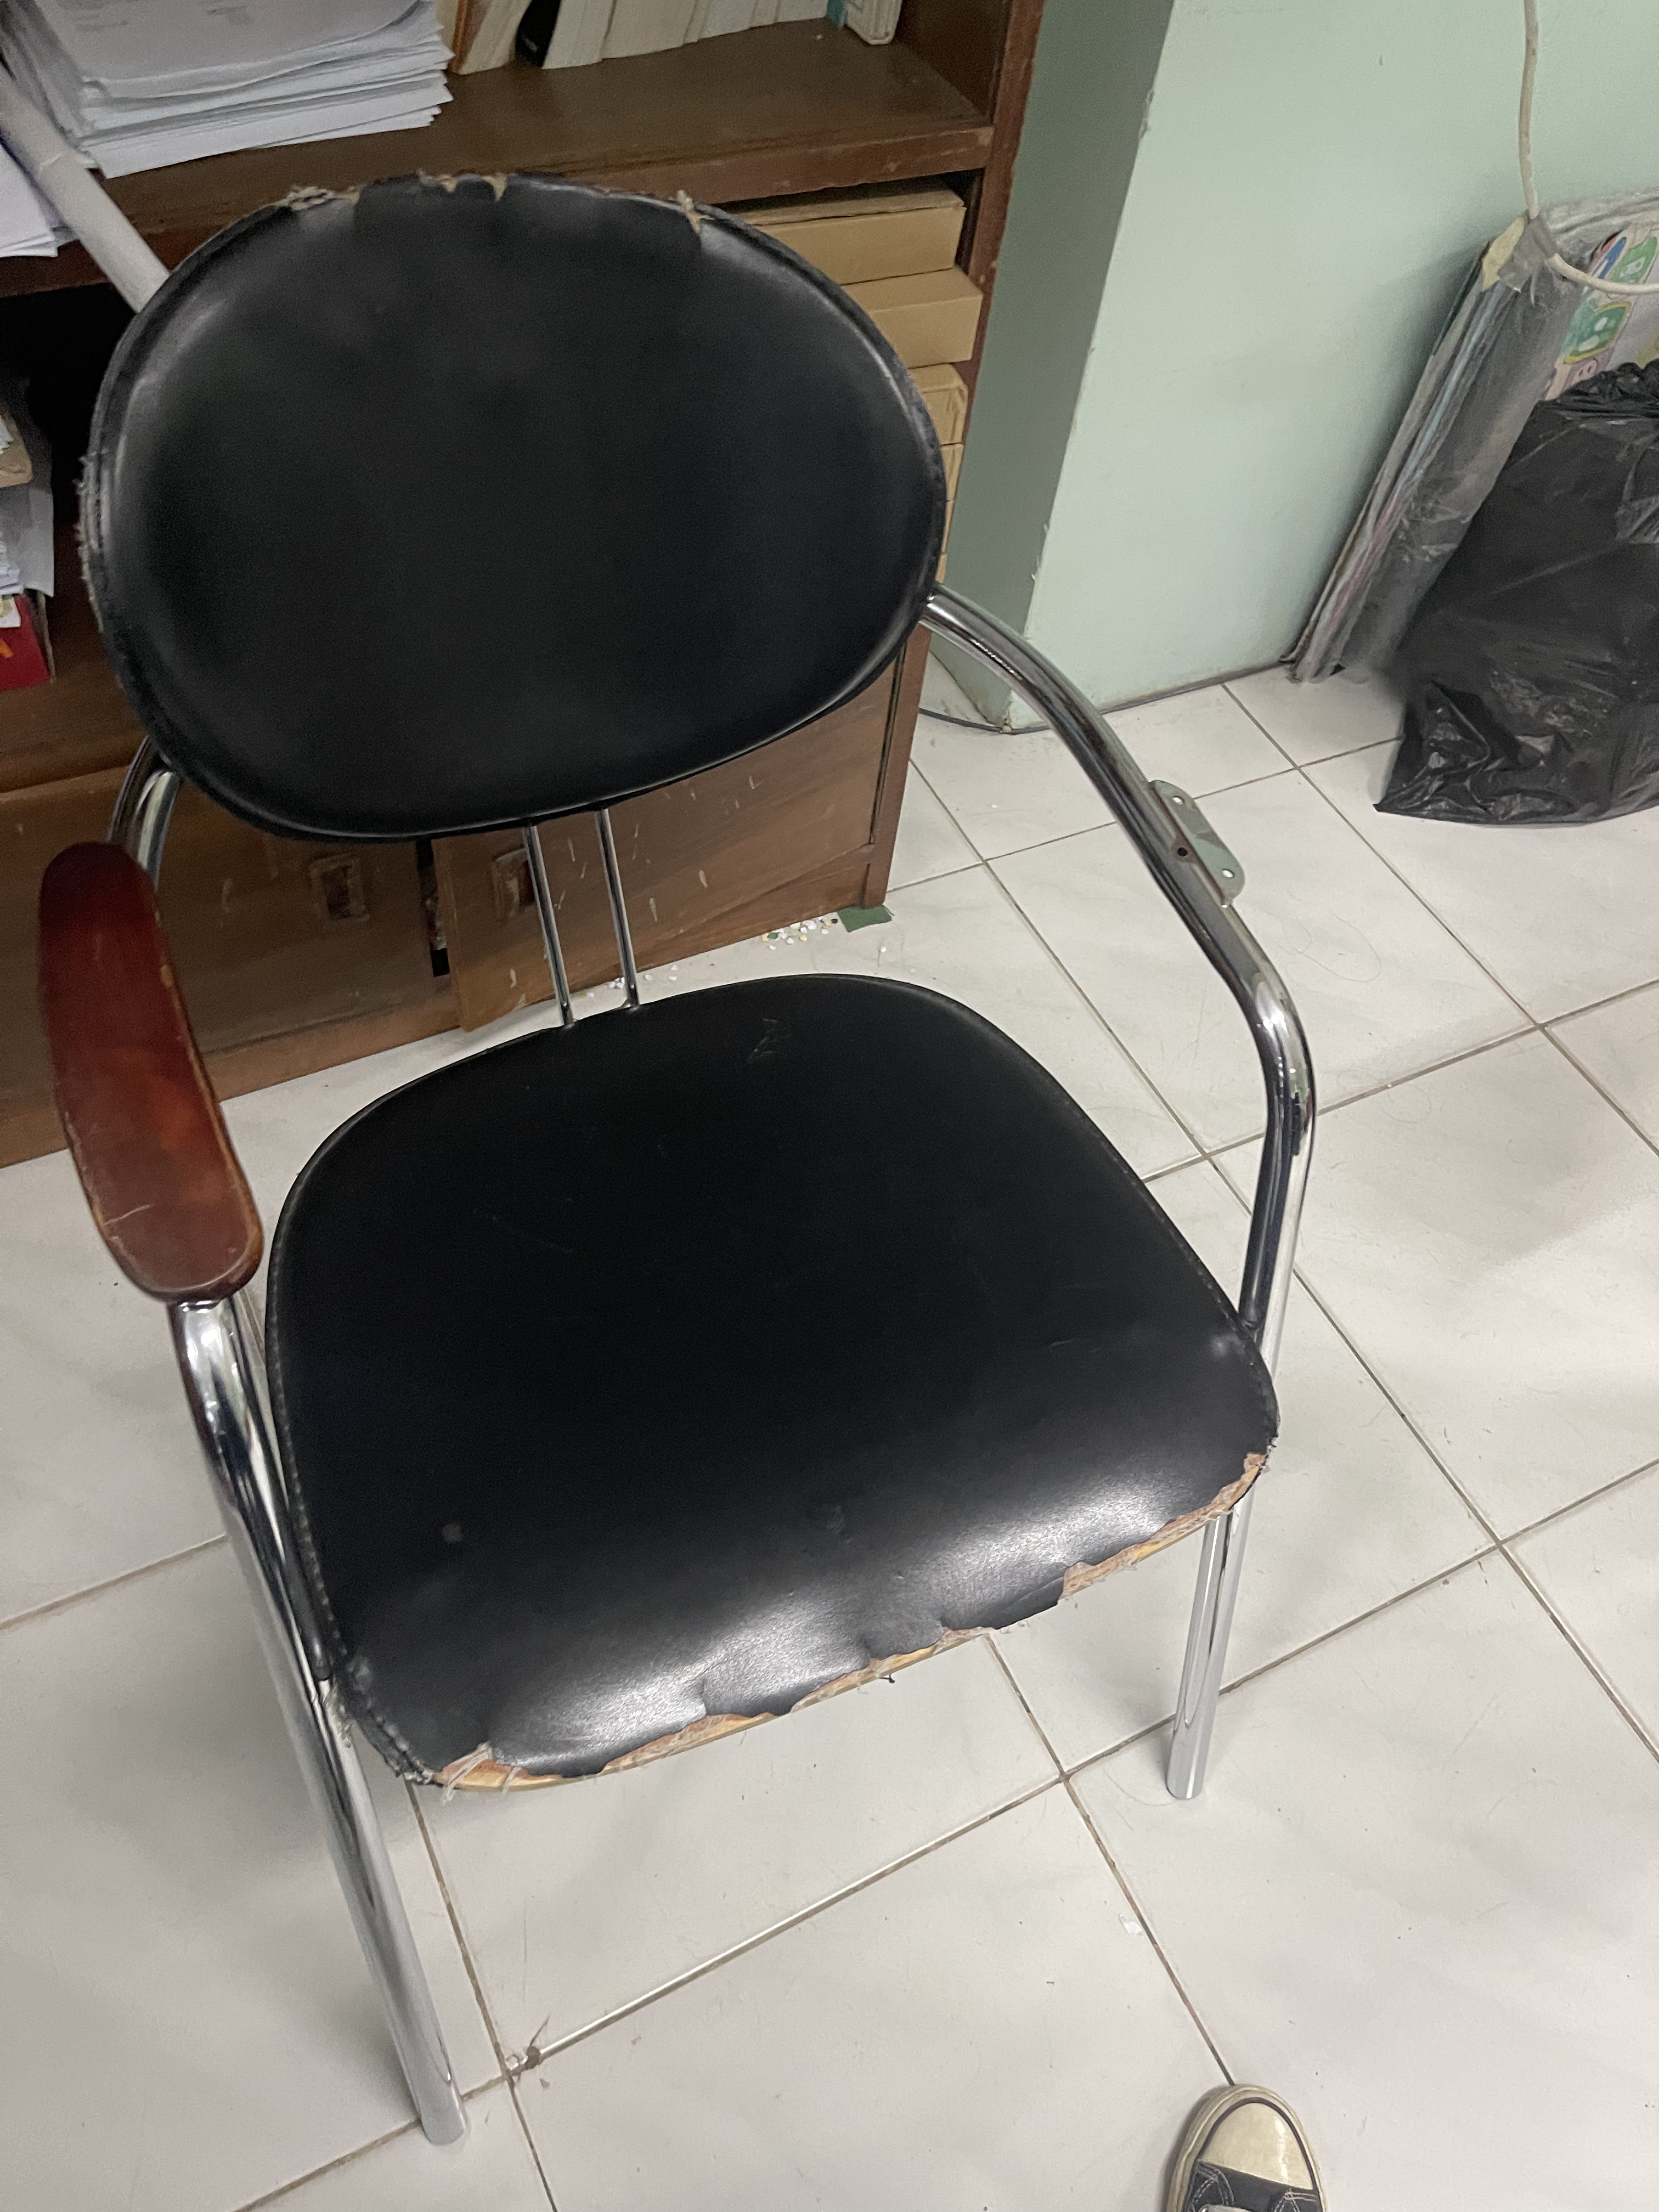chair1: (40, 178, 1326, 2160)
